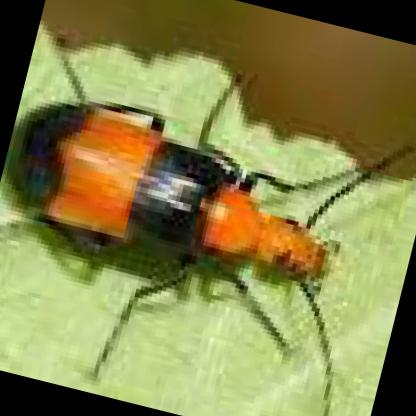blister beetle: (4, 81, 399, 285)
